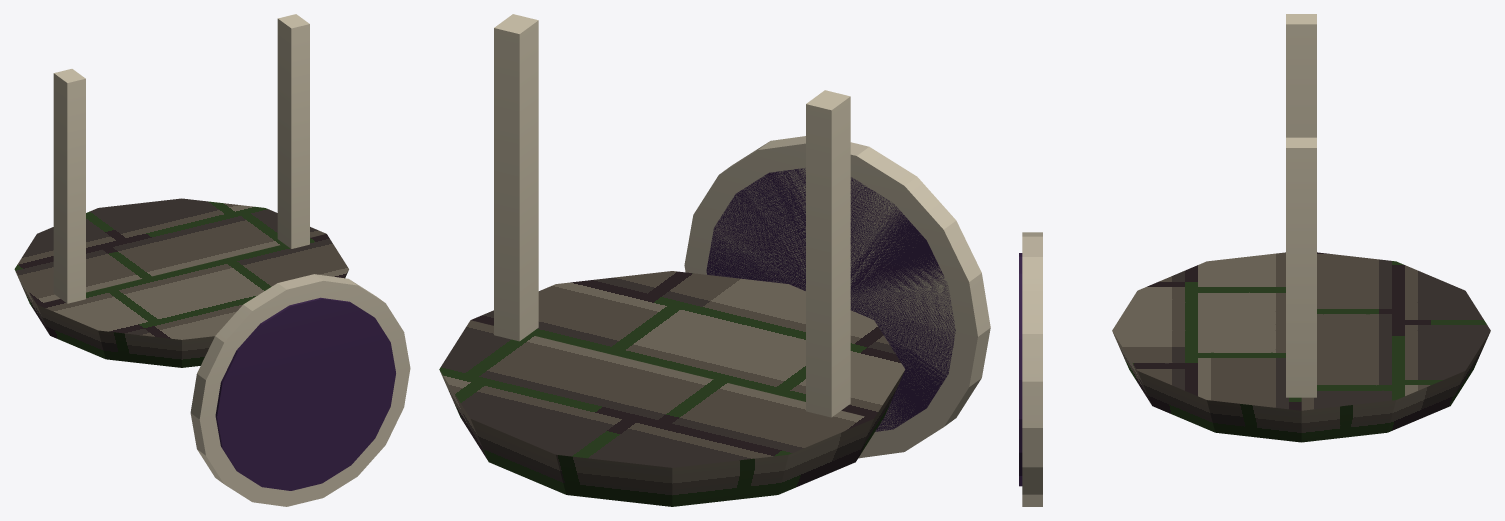
The model's file is lens_dais.glb.
3 renders of one model, left to right at view 1: azimuth 30°, elevation 25°; view 2: azimuth 150°, elevation 25°; view 3: azimuth 270°, elevation 25°, orthographic. The views are drawn at different scales.
Visible parts, largest first — view 1: lens_dais; view 2: lens_dais; view 3: lens_dais.
Part boxes in pixels (bbox=[...]): lens_dais: bbox=[14, 14, 410, 506]; lens_dais: bbox=[439, 14, 990, 506]; lens_dais: bbox=[1019, 14, 1490, 506].
Size of the model in its own units: 2.2 by 2.64 by 2.74.
Materials: 3 (1 with a texture image).
